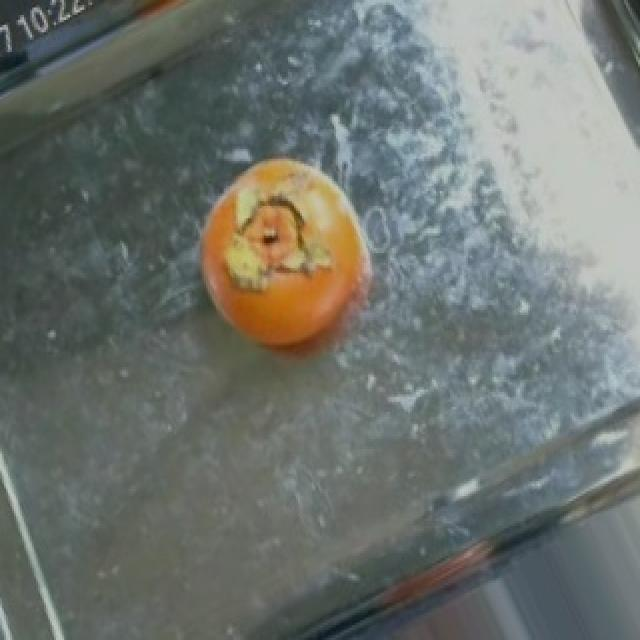Fruit: (176, 144, 396, 382)
